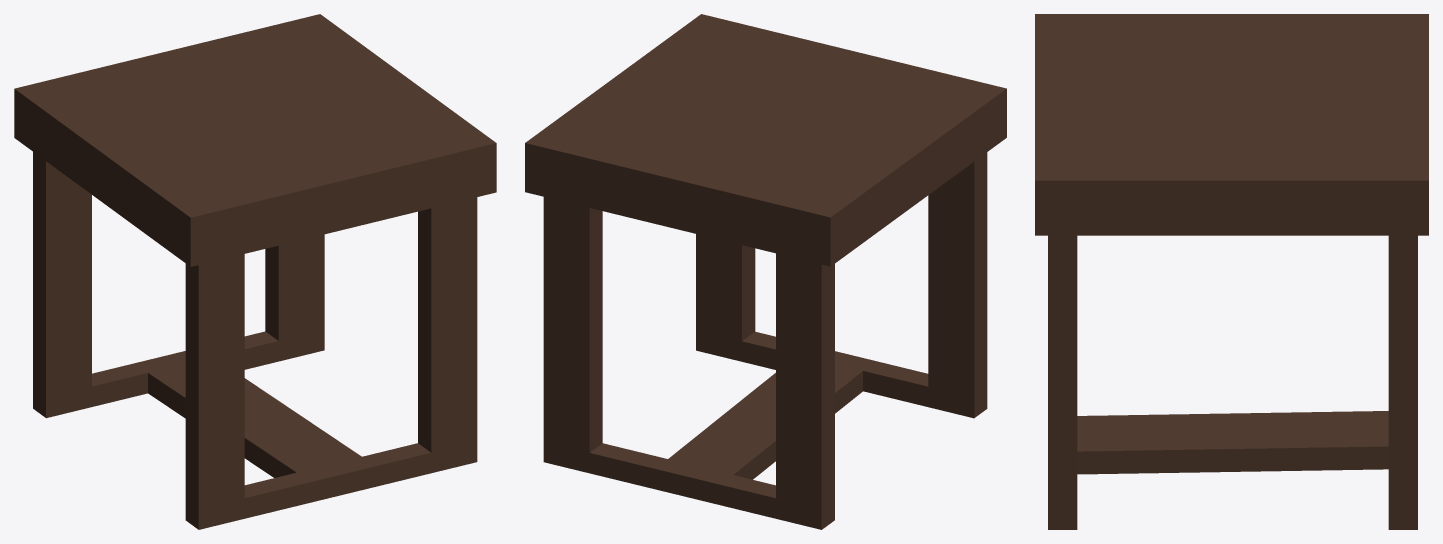
Rendered from Chair.fbx.
3 views of the same model, side by side, from view 1: azimuth 30°, elevation 25°; view 2: azimuth 150°, elevation 25°; view 3: azimuth 270°, elevation 25° (orthographic). The views are drawn at different scales.
Visible parts, largest first — view 1: Chair; view 2: Chair; view 3: Chair.
Part boxes in pixels (x1,y1,x2,y2): Chair: (14,14,496,529); Chair: (525,14,1006,529); Chair: (1035,14,1428,529).
Size of the model in its own units: 100 by 100 by 100.
